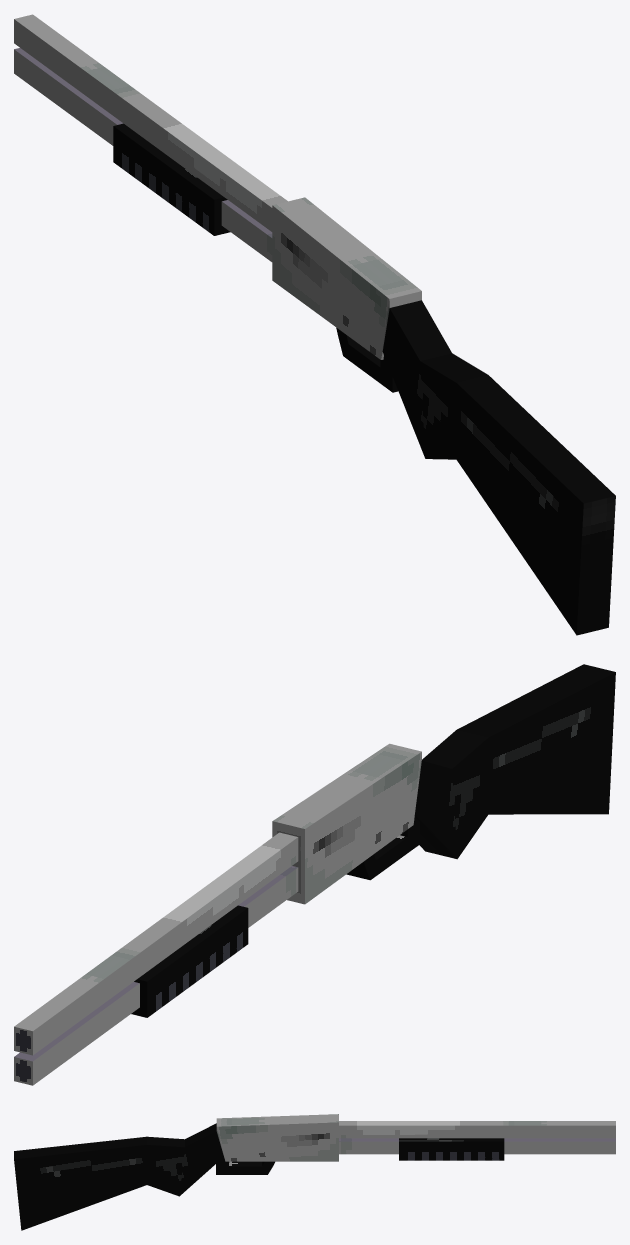
The model's file is remingtonmodel.glb.
3 views of the same model, one above another, from view 1: azimuth 30°, elevation 25°; view 2: azimuth 150°, elevation 25°; view 3: azimuth 270°, elevation 25° (orthographic). The views are drawn at different scales.
Visible parts, largest first — view 1: Cube; view 2: Cube; view 3: Cube.
Part boxes in pixels (x1,y1,x2,y2): Cube: [14, 14, 615, 635]; Cube: [14, 664, 615, 1085]; Cube: [14, 1114, 615, 1230].
Size of the model in its own units: 0.156 by 0.9121 by 4.59.
1 material, 1 textured.
